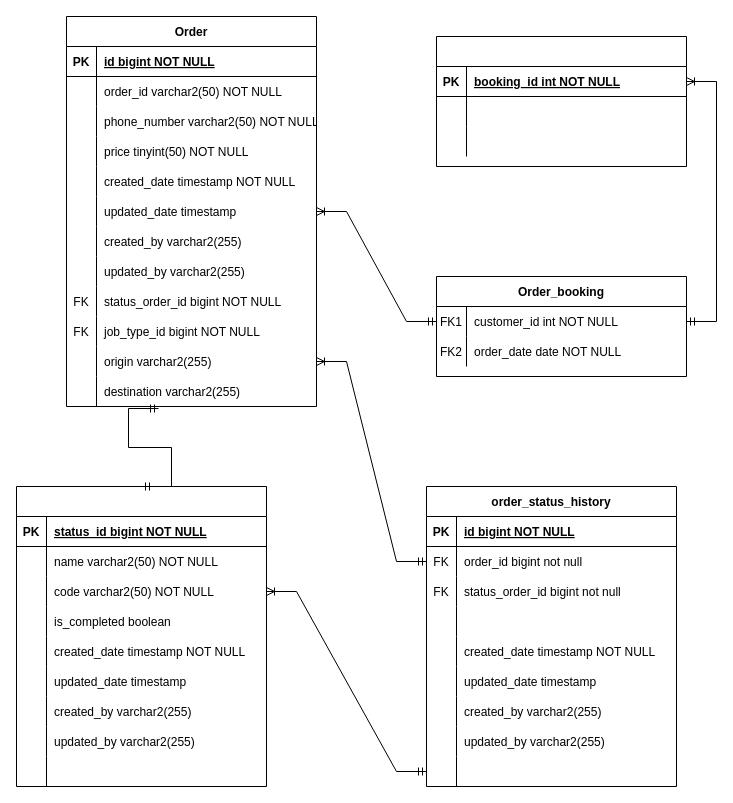
Image size: 733x803. Some labels were removed from this diagram. Here are the shapes that lost their labels. From the top down, the box of each, then its label:
(436, 36, 686, 166): Bookings
(16, 486, 266, 786): status_order
